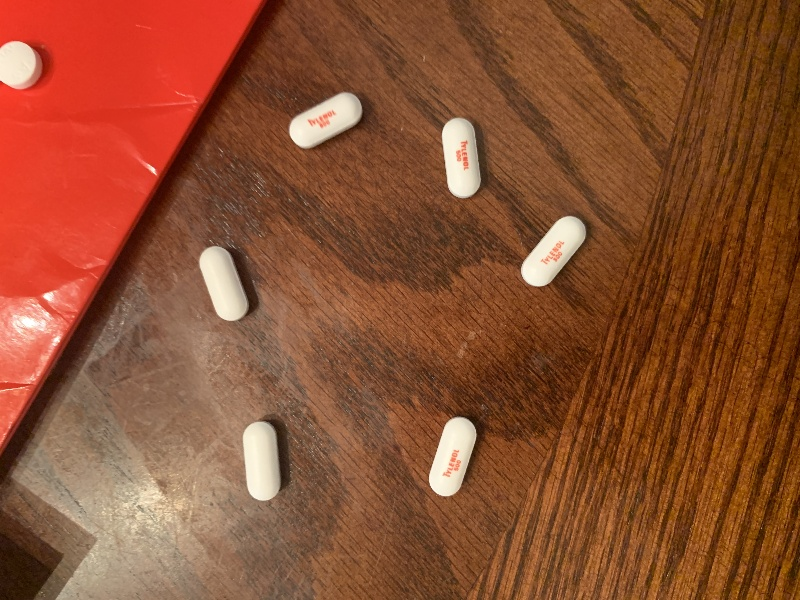Aspirin: (1, 39, 47, 93)
Tylenol: (274, 87, 371, 153), (515, 211, 591, 295), (191, 239, 255, 325), (432, 113, 486, 202), (427, 410, 478, 504), (238, 419, 290, 508)
